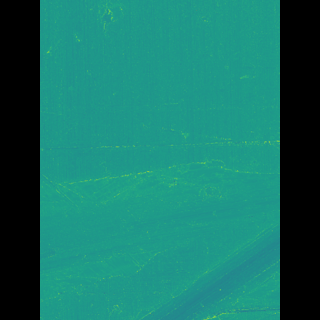Loch: (70, 156, 250, 319), (107, 0, 137, 44)
